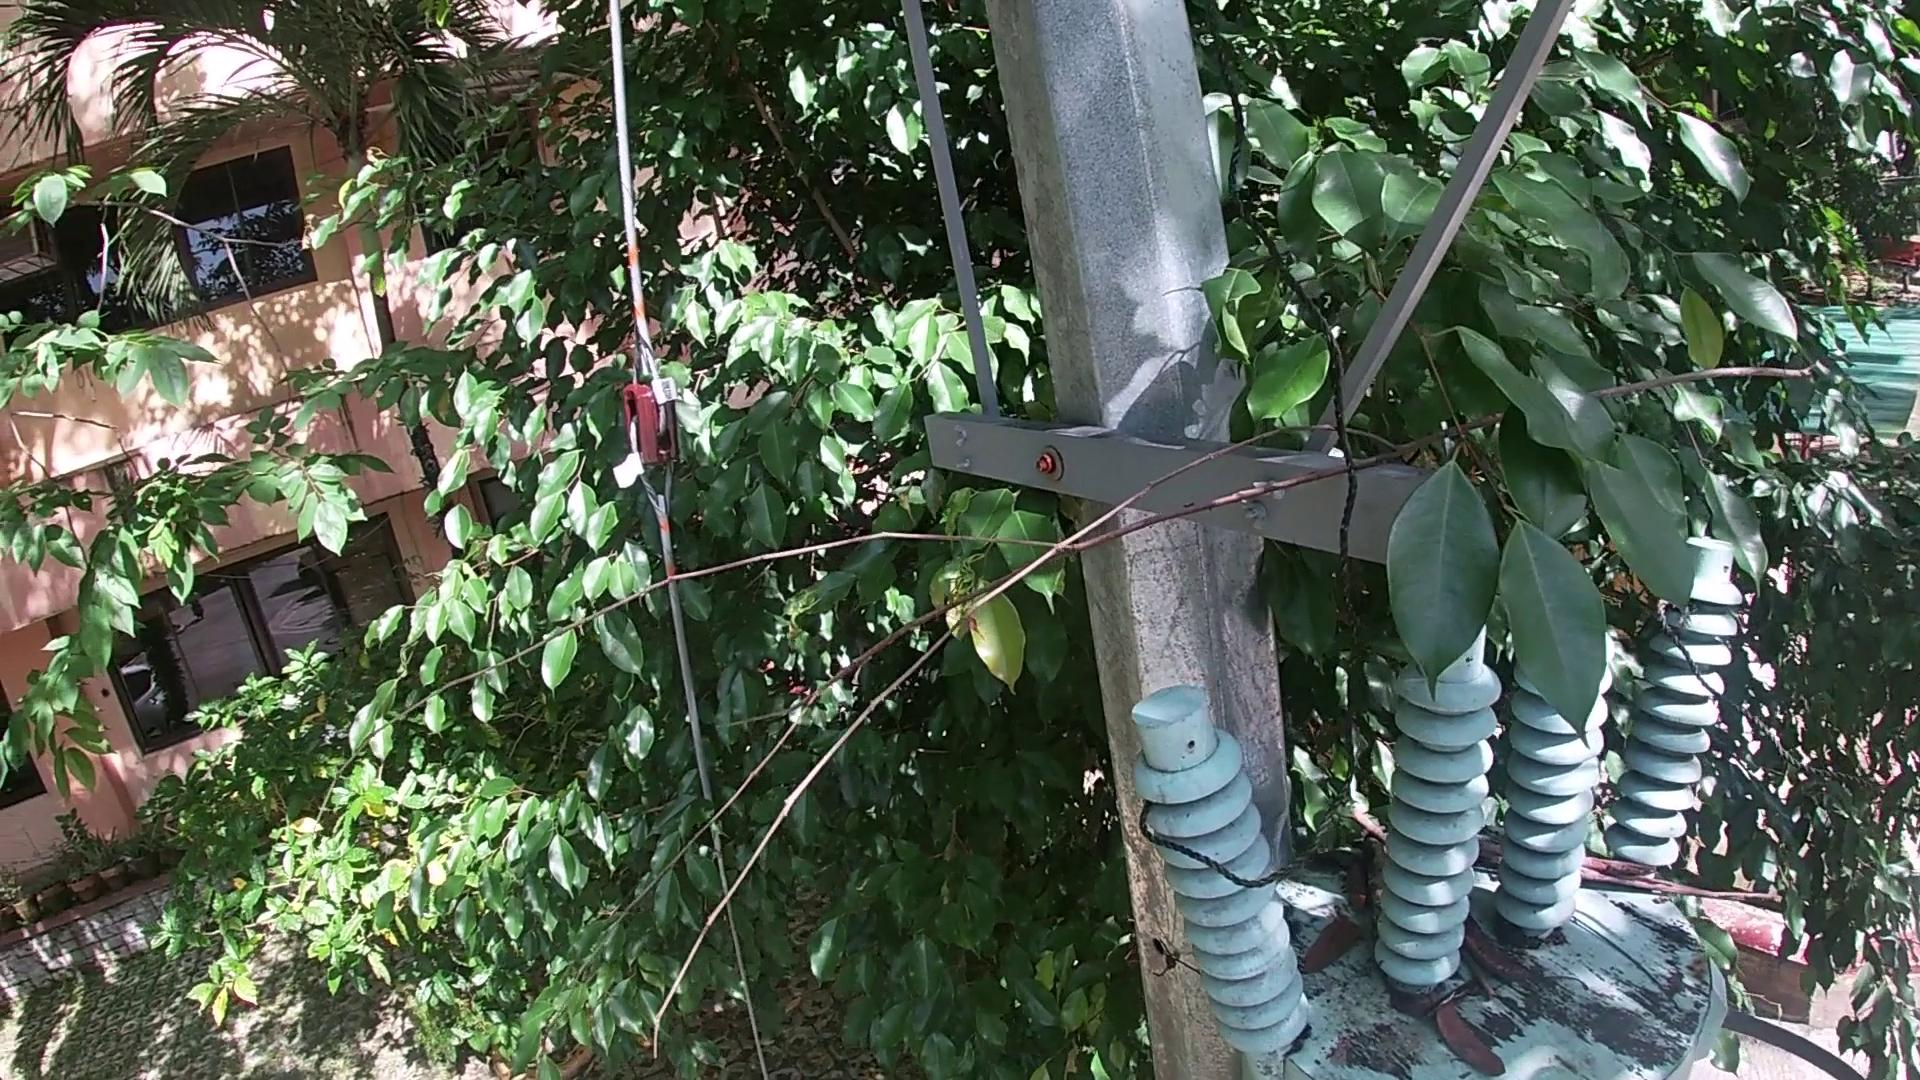leaf: (1290, 916, 1360, 984), (1379, 988, 1447, 1023), (1300, 845, 1353, 872)
mahogany fruit: (1443, 1000, 1513, 1077), (1466, 913, 1527, 985)
tree branch: (332, 364, 1805, 1048), (1572, 916, 1691, 1035), (1582, 852, 1784, 913), (1498, 971, 1601, 1004), (1458, 948, 1501, 1004), (1362, 829, 1382, 916), (1345, 803, 1391, 835), (1478, 848, 1516, 868)
